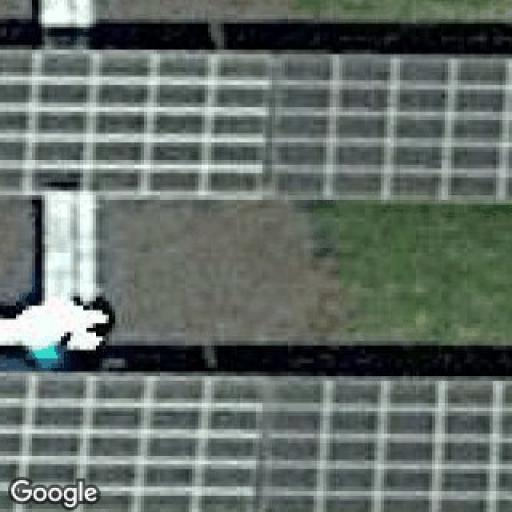solar-panel: (0, 48, 512, 208), (0, 366, 512, 512)
